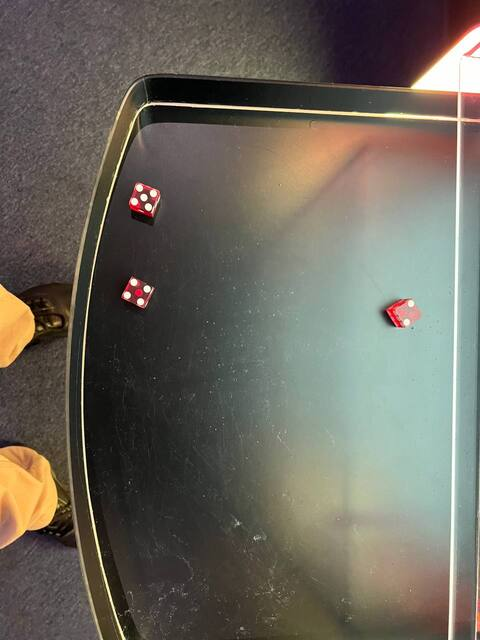five: (126, 179, 161, 216)
four: (119, 274, 156, 311)
two: (392, 296, 425, 329)
